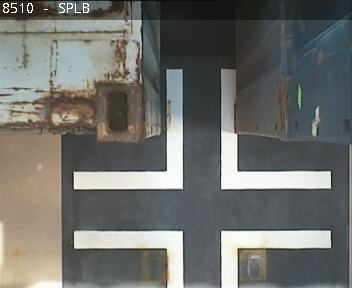groundmarker_1: (72, 68, 331, 190), (73, 228, 332, 288)
